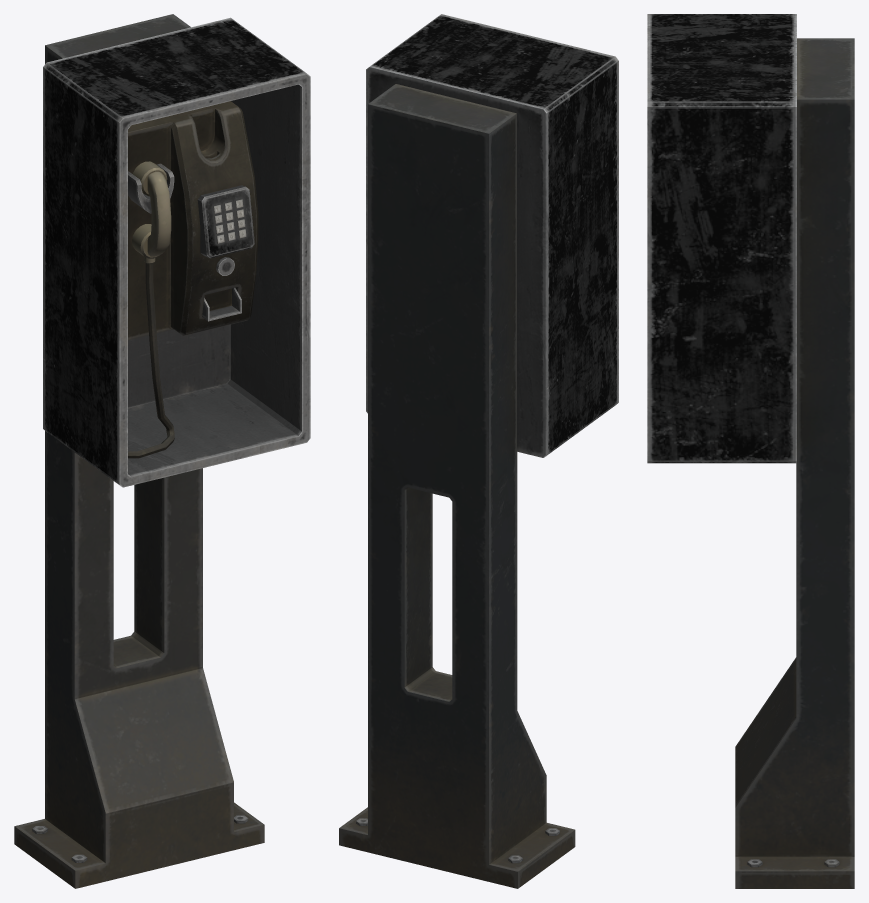
File: payphone.glb
3 renders of one model, left to right at view 1: azimuth 30°, elevation 25°; view 2: azimuth 150°, elevation 25°; view 3: azimuth 270°, elevation 25°, orthographic. The views are drawn at different scales.
Visible parts, largest first — view 1: payphone; view 2: payphone; view 3: payphone.
Boxes of the visible parts, x1,y1,x2,y2 form: payphone: (14,14,310,888); payphone: (339,14,618,888); payphone: (647,14,854,888).
Size of the model in its own units: 38.88 by 156 by 37.37.
Materials: 1 (1 with a texture image).
